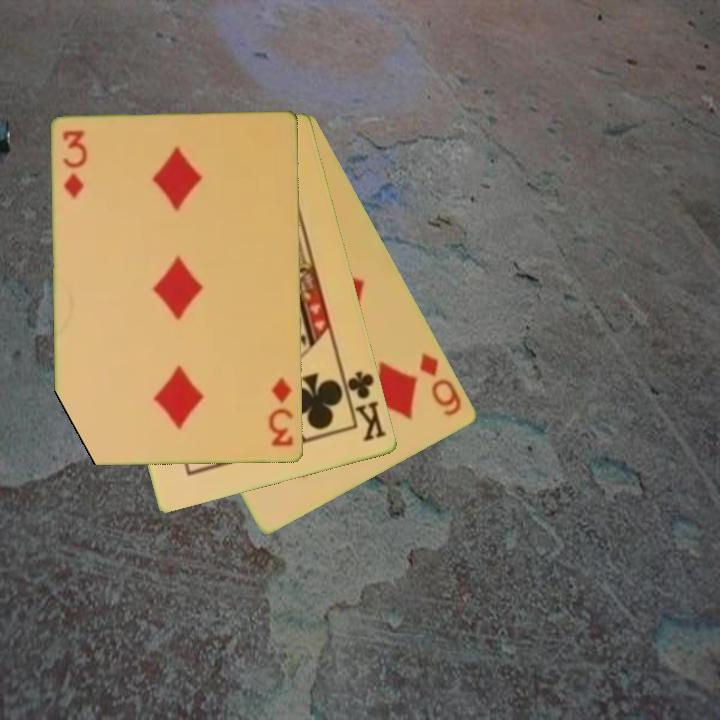3d: (265, 374, 297, 449), (59, 127, 89, 202)
6d: (416, 349, 465, 419)
Kc: (339, 367, 390, 444)
